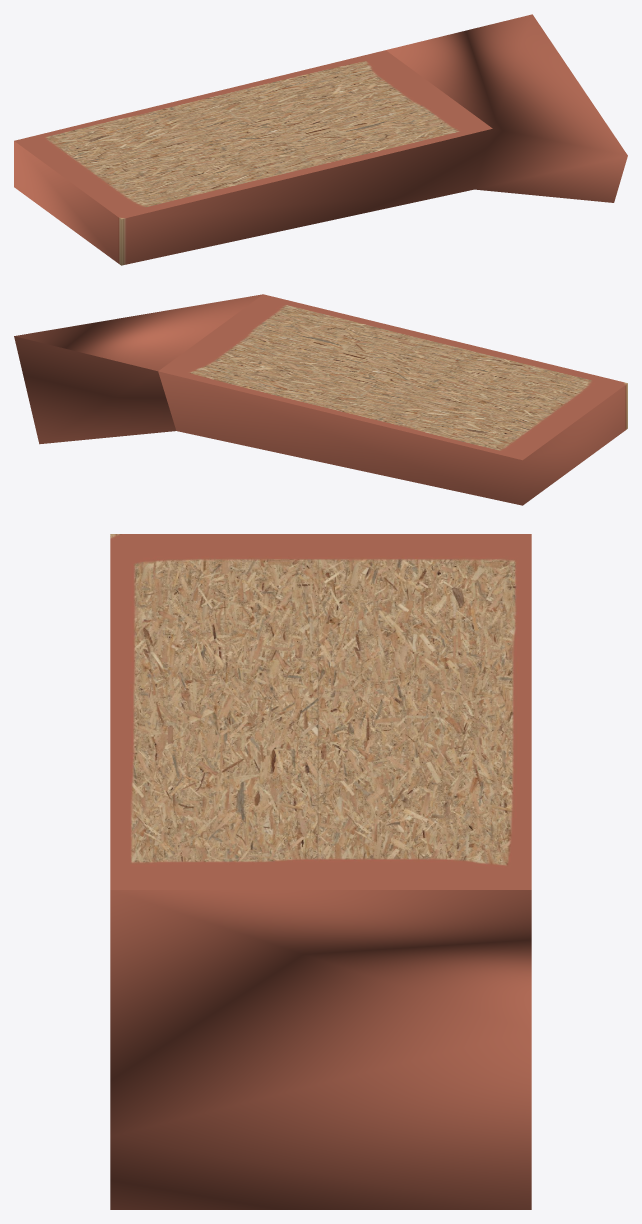
File: cornhole.glb
The picture shows the model from 3 angles, top to bottom: view 1: azimuth 30°, elevation 25°; view 2: azimuth 150°, elevation 25°; view 3: azimuth 270°, elevation 25°; orthographic projection. The views are drawn at different scales.
Parts seen in each view (by area): view 1: Plane; view 2: Plane, Plane.001; view 3: Plane.
Part boxes in pixels (left/top/right/bottom): Plane: left=14, top=14, right=627, bottom=265; Plane: left=14, top=294, right=627, bottom=505; Plane.001: left=14, top=336, right=176, bottom=444; Plane: left=110, top=534, right=531, bottom=1209.
Bounding box in the file's own units: 6.7 × 1.28 × 2.4.
1 material, 1 textured.
